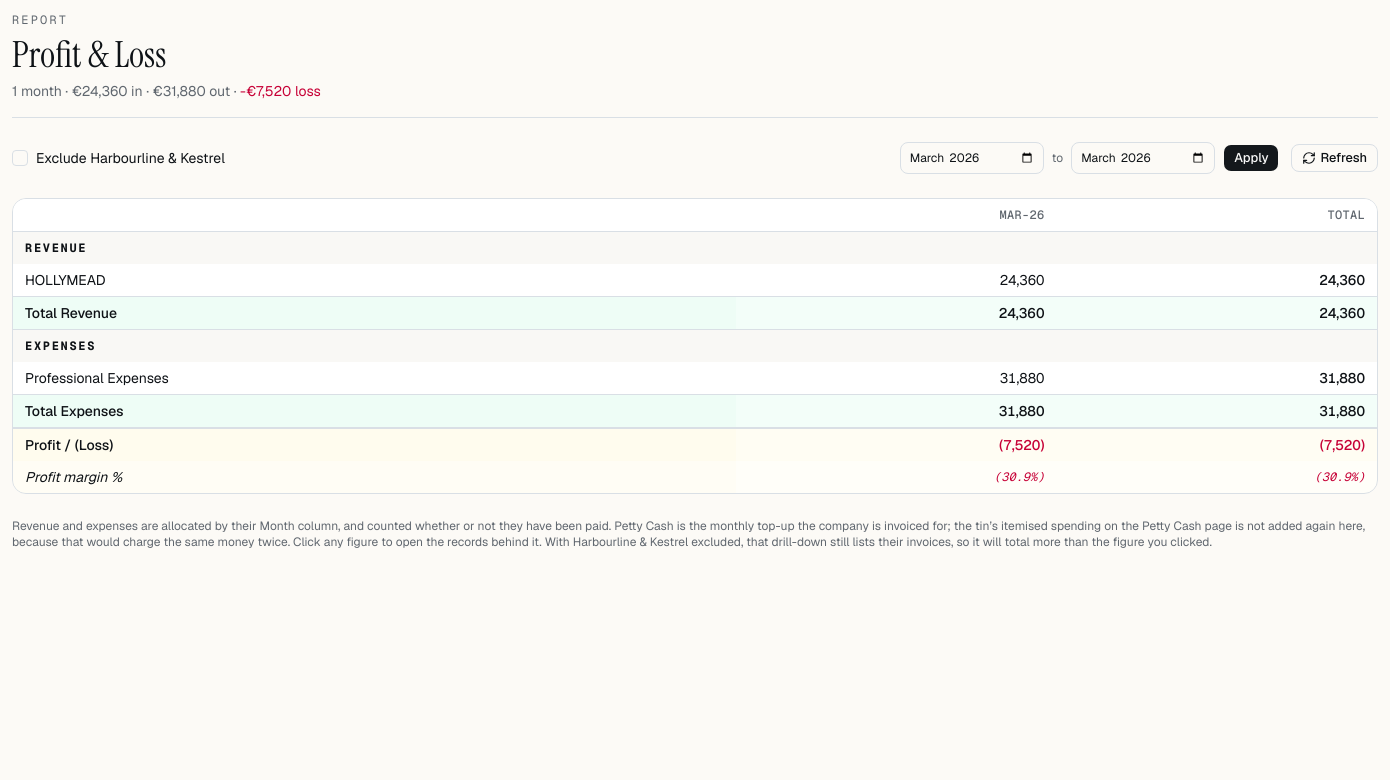
Test: PnlPageClient excluding the related companies › shrinks the Professional Expenses line to what is left when ticked
The width and height of the screenshot is (1390, 780).
Click the checkbox named "exclude harbourline & kestrel".
click(20, 158)  # box [12,150,28,166]
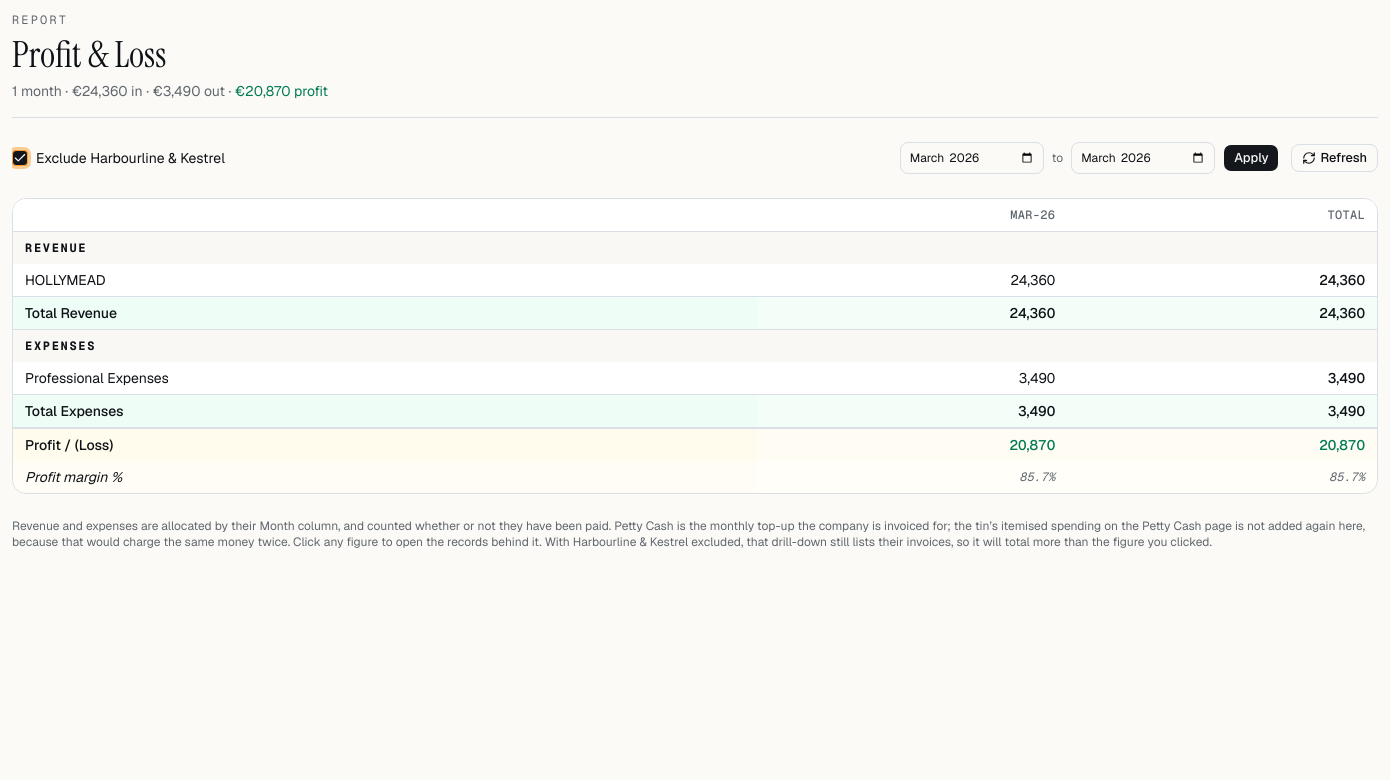
Expected: the 1st link "3,490" is shown, [1019,369,1055,387]
Expected: the text "31,880" is gone
